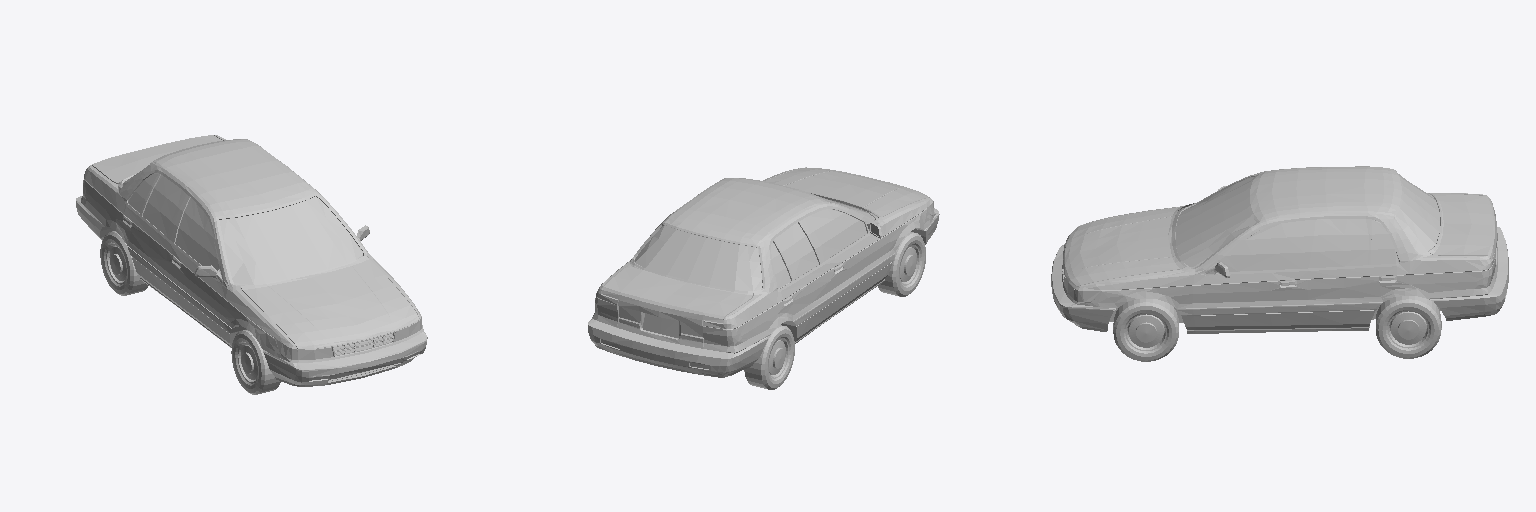
The model's file is car 8.obj.
3 renders of one model, left to right at view 1: azimuth 30°, elevation 25°; view 2: azimuth 150°, elevation 25°; view 3: azimuth 270°, elevation 25°, orthographic.
Visible parts, largest first — view 1: body, glass, bumpers, wintrim, rftire, btires, hlights, trim, grill, brims, rfrim; view 2: body, glass, bumpers, wintrim, btires, rftire, tlights, trim, brims, rfrim; view 3: body, glass, bumpers, wintrim, lftire, btires, trim, brims, lfrim.
Boxes of the visible parts, <box> form: body: <box>81,135,423,362</box>; glass: <box>122,171,362,285</box>; bumpers: <box>76,196,427,386</box>; wintrim: <box>120,170,366,286</box>; rftire: <box>231,330,280,394</box>; btires: <box>100,231,148,295</box>; hlights: <box>282,317,421,359</box>; trim: <box>127,246,232,333</box>; grill: <box>332,332,394,356</box>; brims: <box>106,244,126,284</box>; rfrim: <box>238,343,257,383</box>; body: <box>592,167,935,353</box>; glass: <box>634,197,874,290</box>; bumpers: <box>588,208,939,377</box>; wintrim: <box>631,194,878,292</box>; btires: <box>744,325,794,389</box>; rftire: <box>878,232,925,296</box>; tlights: <box>595,292,731,336</box>; trim: <box>792,253,894,326</box>; brims: <box>769,338,788,378</box>; rfrim: <box>900,245,919,285</box>; body: <box>1062,166,1497,333</box>; glass: <box>1176,175,1439,271</box>; bumpers: <box>1051,227,1508,331</box>; wintrim: <box>1172,170,1442,275</box>; lftire: <box>1113,299,1178,361</box>; btires: <box>1376,296,1441,358</box>; trim: <box>1177,302,1382,315</box>; brims: <box>1388,311,1429,348</box>; lfrim: <box>1125,313,1166,350</box>.
Bounding box in the file's own units: 6.22 × 4.75 × 14.11.